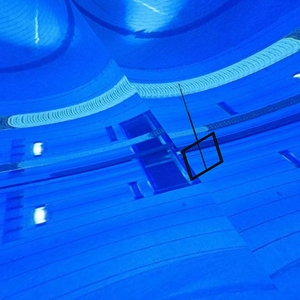circle: (175, 83, 229, 183)
